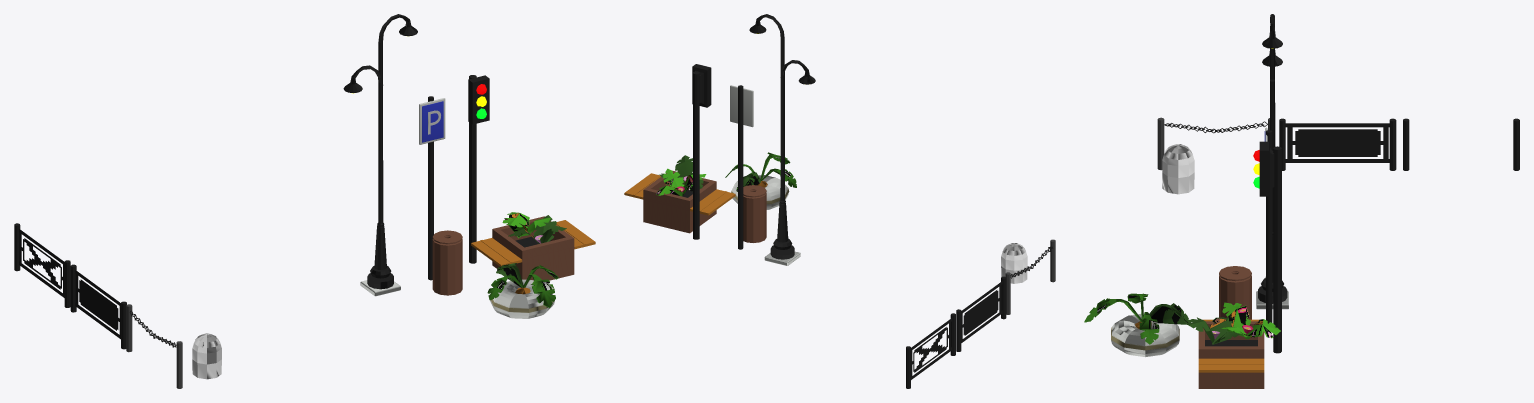
File: Oggetti strada.fbx
The picture shows the model from 3 angles, left to right: view 1: azimuth 30°, elevation 25°; view 2: azimuth 150°, elevation 25°; view 3: azimuth 270°, elevation 25°; orthographic projection. The views are drawn at different scales.
Visible parts, largest first — view 1: Fioriera1, Lampione0, Fioriera0, Ringhiera1, Cartello0, Cestino0, Semaforo, Ringhiera2, capitello0, Ringhiera0; view 2: Fioriera1, Lampione0, Semaforo, Ringhiera1, Cartello0, Ringhiera2, Cestino0, Fioriera0, capitello0, Ringhiera0; view 3: Fioriera1, Ringhiera1, Fioriera0, Semaforo, Lampione0, capitello0, Cestino0, Cartello0, Ringhiera0, Ringhiera2.
Boxes of the visible parts, <box> form: Fioriera1: <box>471,212,595,280</box>; Lampione0: <box>343,14,417,296</box>; Fioriera0: <box>487,263,558,318</box>; Ringhiera1: <box>70,264,126,349</box>; Cartello0: <box>419,96,445,280</box>; Cestino0: <box>432,230,462,295</box>; Semaforo: <box>468,75,489,263</box>; Ringhiera2: <box>14,223,70,307</box>; capitello0: <box>192,333,221,379</box>; Ringhiera0: <box>126,304,182,388</box>; Fioriera1: <box>624,155,735,233</box>; Lampione0: <box>749,14,815,265</box>; Semaforo: <box>692,64,711,239</box>; Ringhiera1: <box>956,276,1006,351</box>; Cartello0: <box>730,85,753,249</box>; Ringhiera2: <box>906,313,955,388</box>; Cestino0: <box>743,185,766,242</box>; Fioriera0: <box>725,152,796,209</box>; capitello0: <box>1001,243,1027,283</box>; Ringhiera0: <box>1005,239,1055,314</box>; Fioriera1: <box>1188,302,1280,388</box>; Ringhiera1: <box>1279,118,1396,170</box>; Fioriera0: <box>1084,293,1190,357</box>; Semaforo: <box>1259,141,1281,353</box>; Lampione0: <box>1256,14,1288,309</box>; capitello0: <box>1162,144,1194,194</box>; Cestino0: <box>1219,266,1251,319</box>; Cartello0: <box>1264,127,1272,323</box>; Ringhiera0: <box>1157,117,1269,170</box>; Ringhiera2: <box>1403,118,1519,170</box>.
Size of the model in its own units: 503 by 299 by 397.
Materials: 12 (2 with a texture image).
